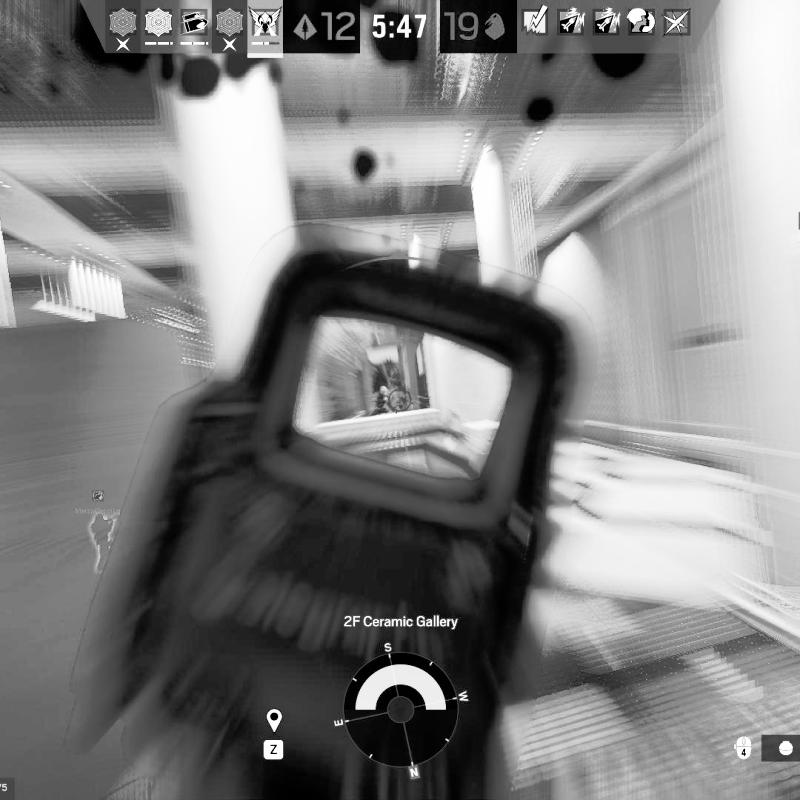Character: (373, 385, 394, 414)
Friend_label: (73, 487, 122, 516)
Head: (380, 386, 390, 395)
